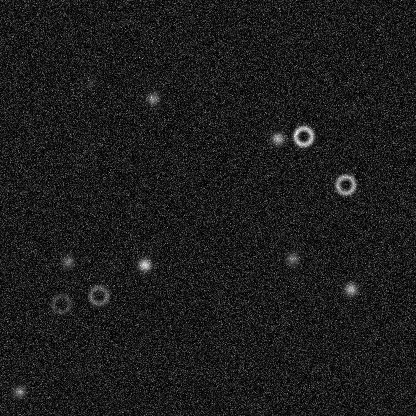Ring: (333, 172, 357, 196), (291, 124, 315, 148), (48, 291, 72, 315), (86, 283, 110, 307)
Spot: (342, 281, 358, 297), (269, 130, 285, 146), (144, 90, 160, 106), (82, 75, 98, 91), (59, 253, 75, 269), (11, 383, 27, 399), (284, 251, 300, 267), (136, 256, 152, 272)
